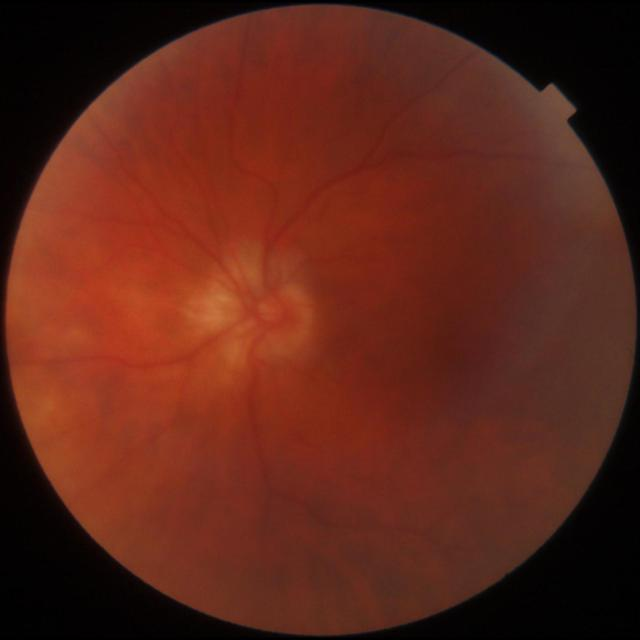OC: (258, 296, 286, 322)
OD: (200, 258, 314, 372)
